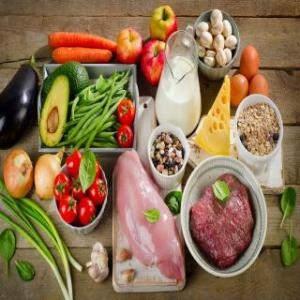carrot: (46, 32, 118, 49), (52, 43, 112, 63)
egg: (229, 72, 249, 103), (241, 46, 257, 77), (250, 76, 268, 98)
garlic: (88, 239, 110, 283), (120, 266, 134, 286), (117, 246, 129, 264)
onion: (33, 149, 65, 203), (2, 148, 32, 199)
tomato: (59, 195, 77, 223), (65, 146, 83, 174), (79, 194, 94, 224), (117, 125, 135, 149), (53, 172, 68, 200), (92, 180, 108, 202), (118, 99, 134, 121)
